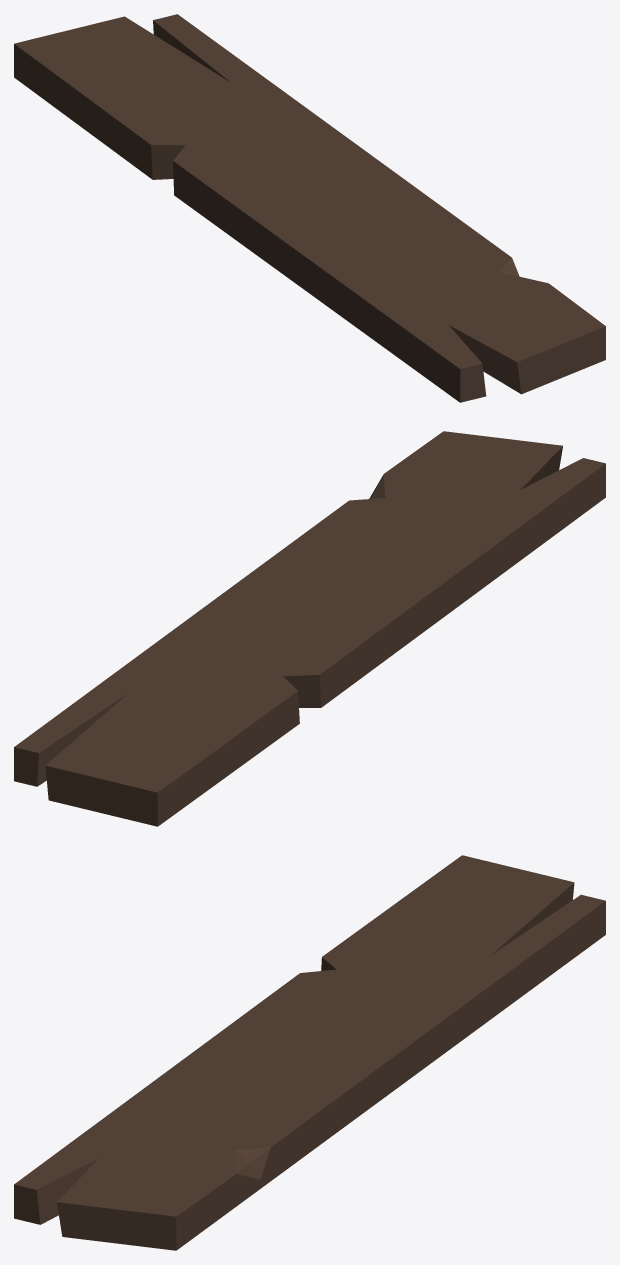
File: plank_1.fbx
The picture shows the model from 3 angles, top to bottom: view 1: azimuth 30°, elevation 25°; view 2: azimuth 150°, elevation 25°; view 3: azimuth 330°, elevation 25°; orthographic projection.
Parts seen in each view (by area): view 1: plank_1; view 2: plank_1; view 3: plank_1.
Boxes of the visible parts, x1,y1,x2,y2 form: plank_1: (14,14,605,402); plank_1: (14,431,605,826); plank_1: (14,855,605,1250).
Size of the model in its own units: 31.92 by 6.76 by 160.
